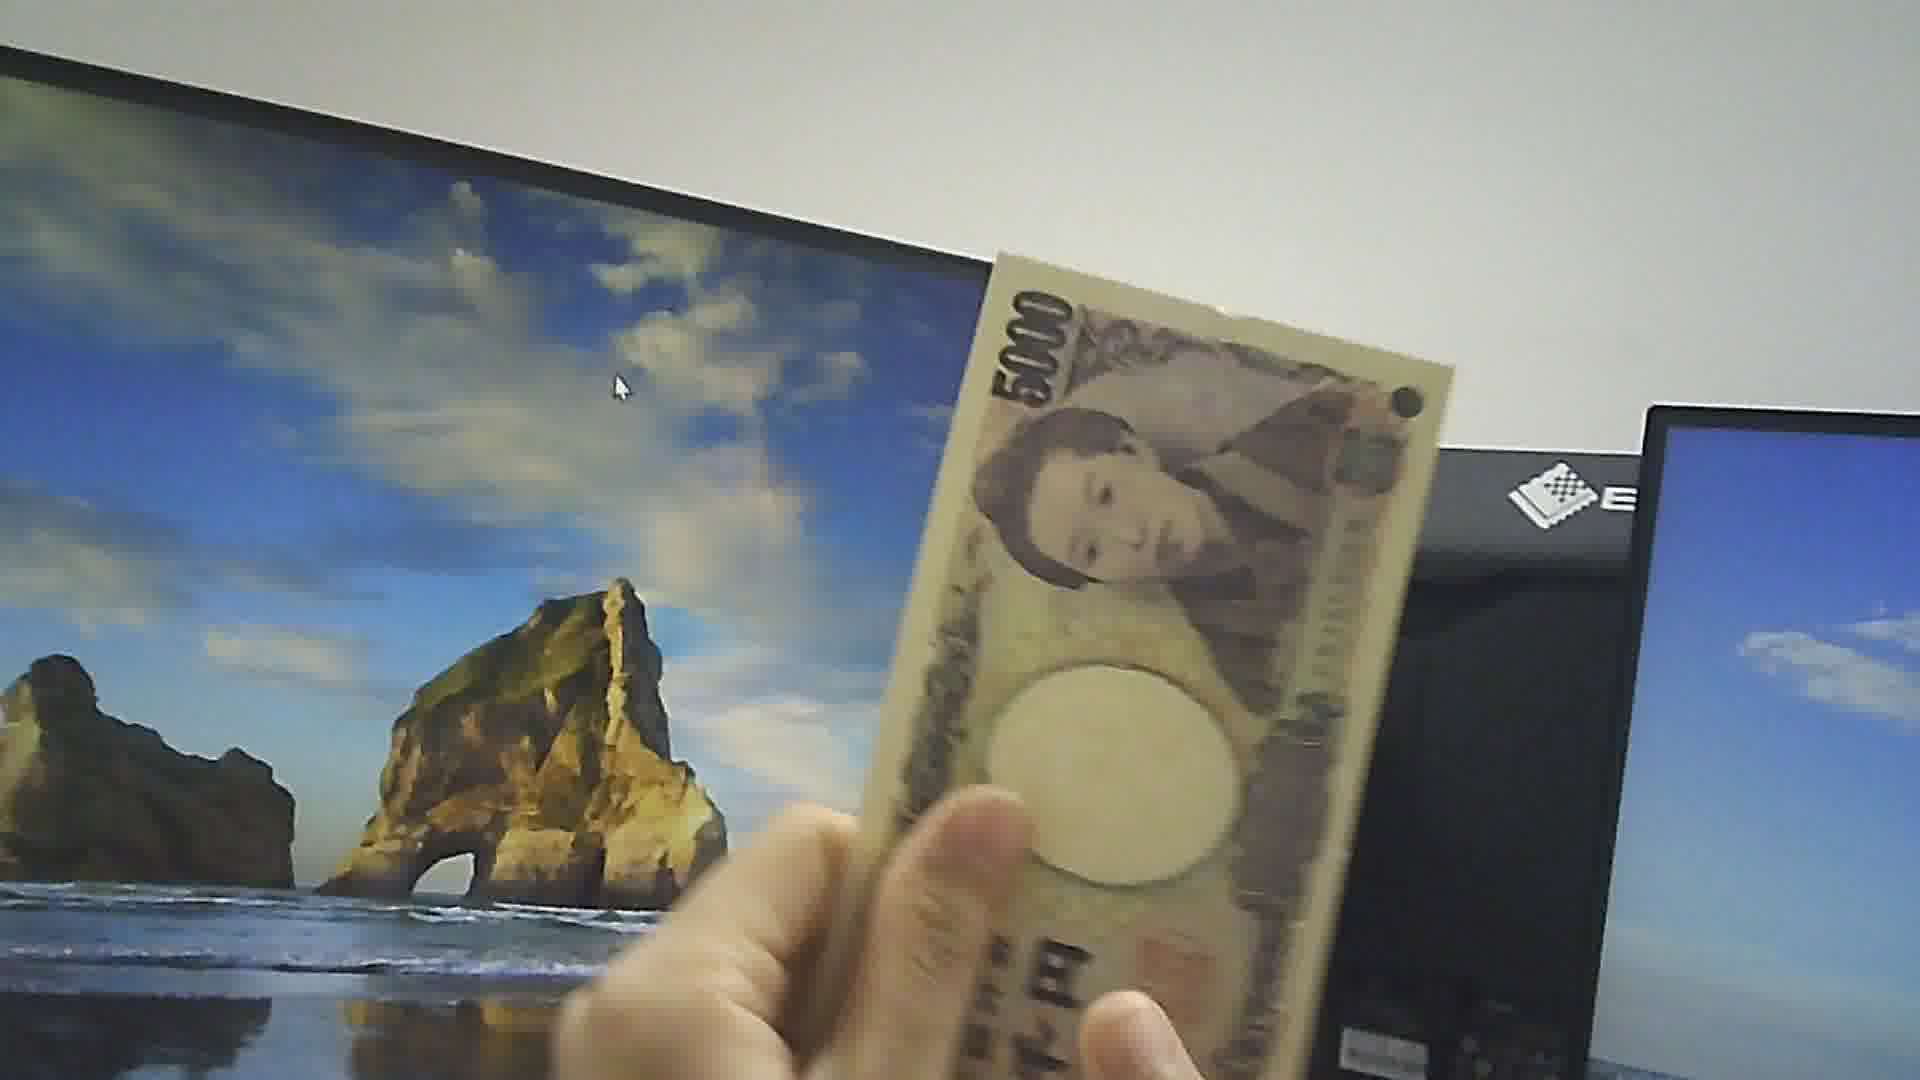5,000 Yen: (824, 219, 1414, 1079)
